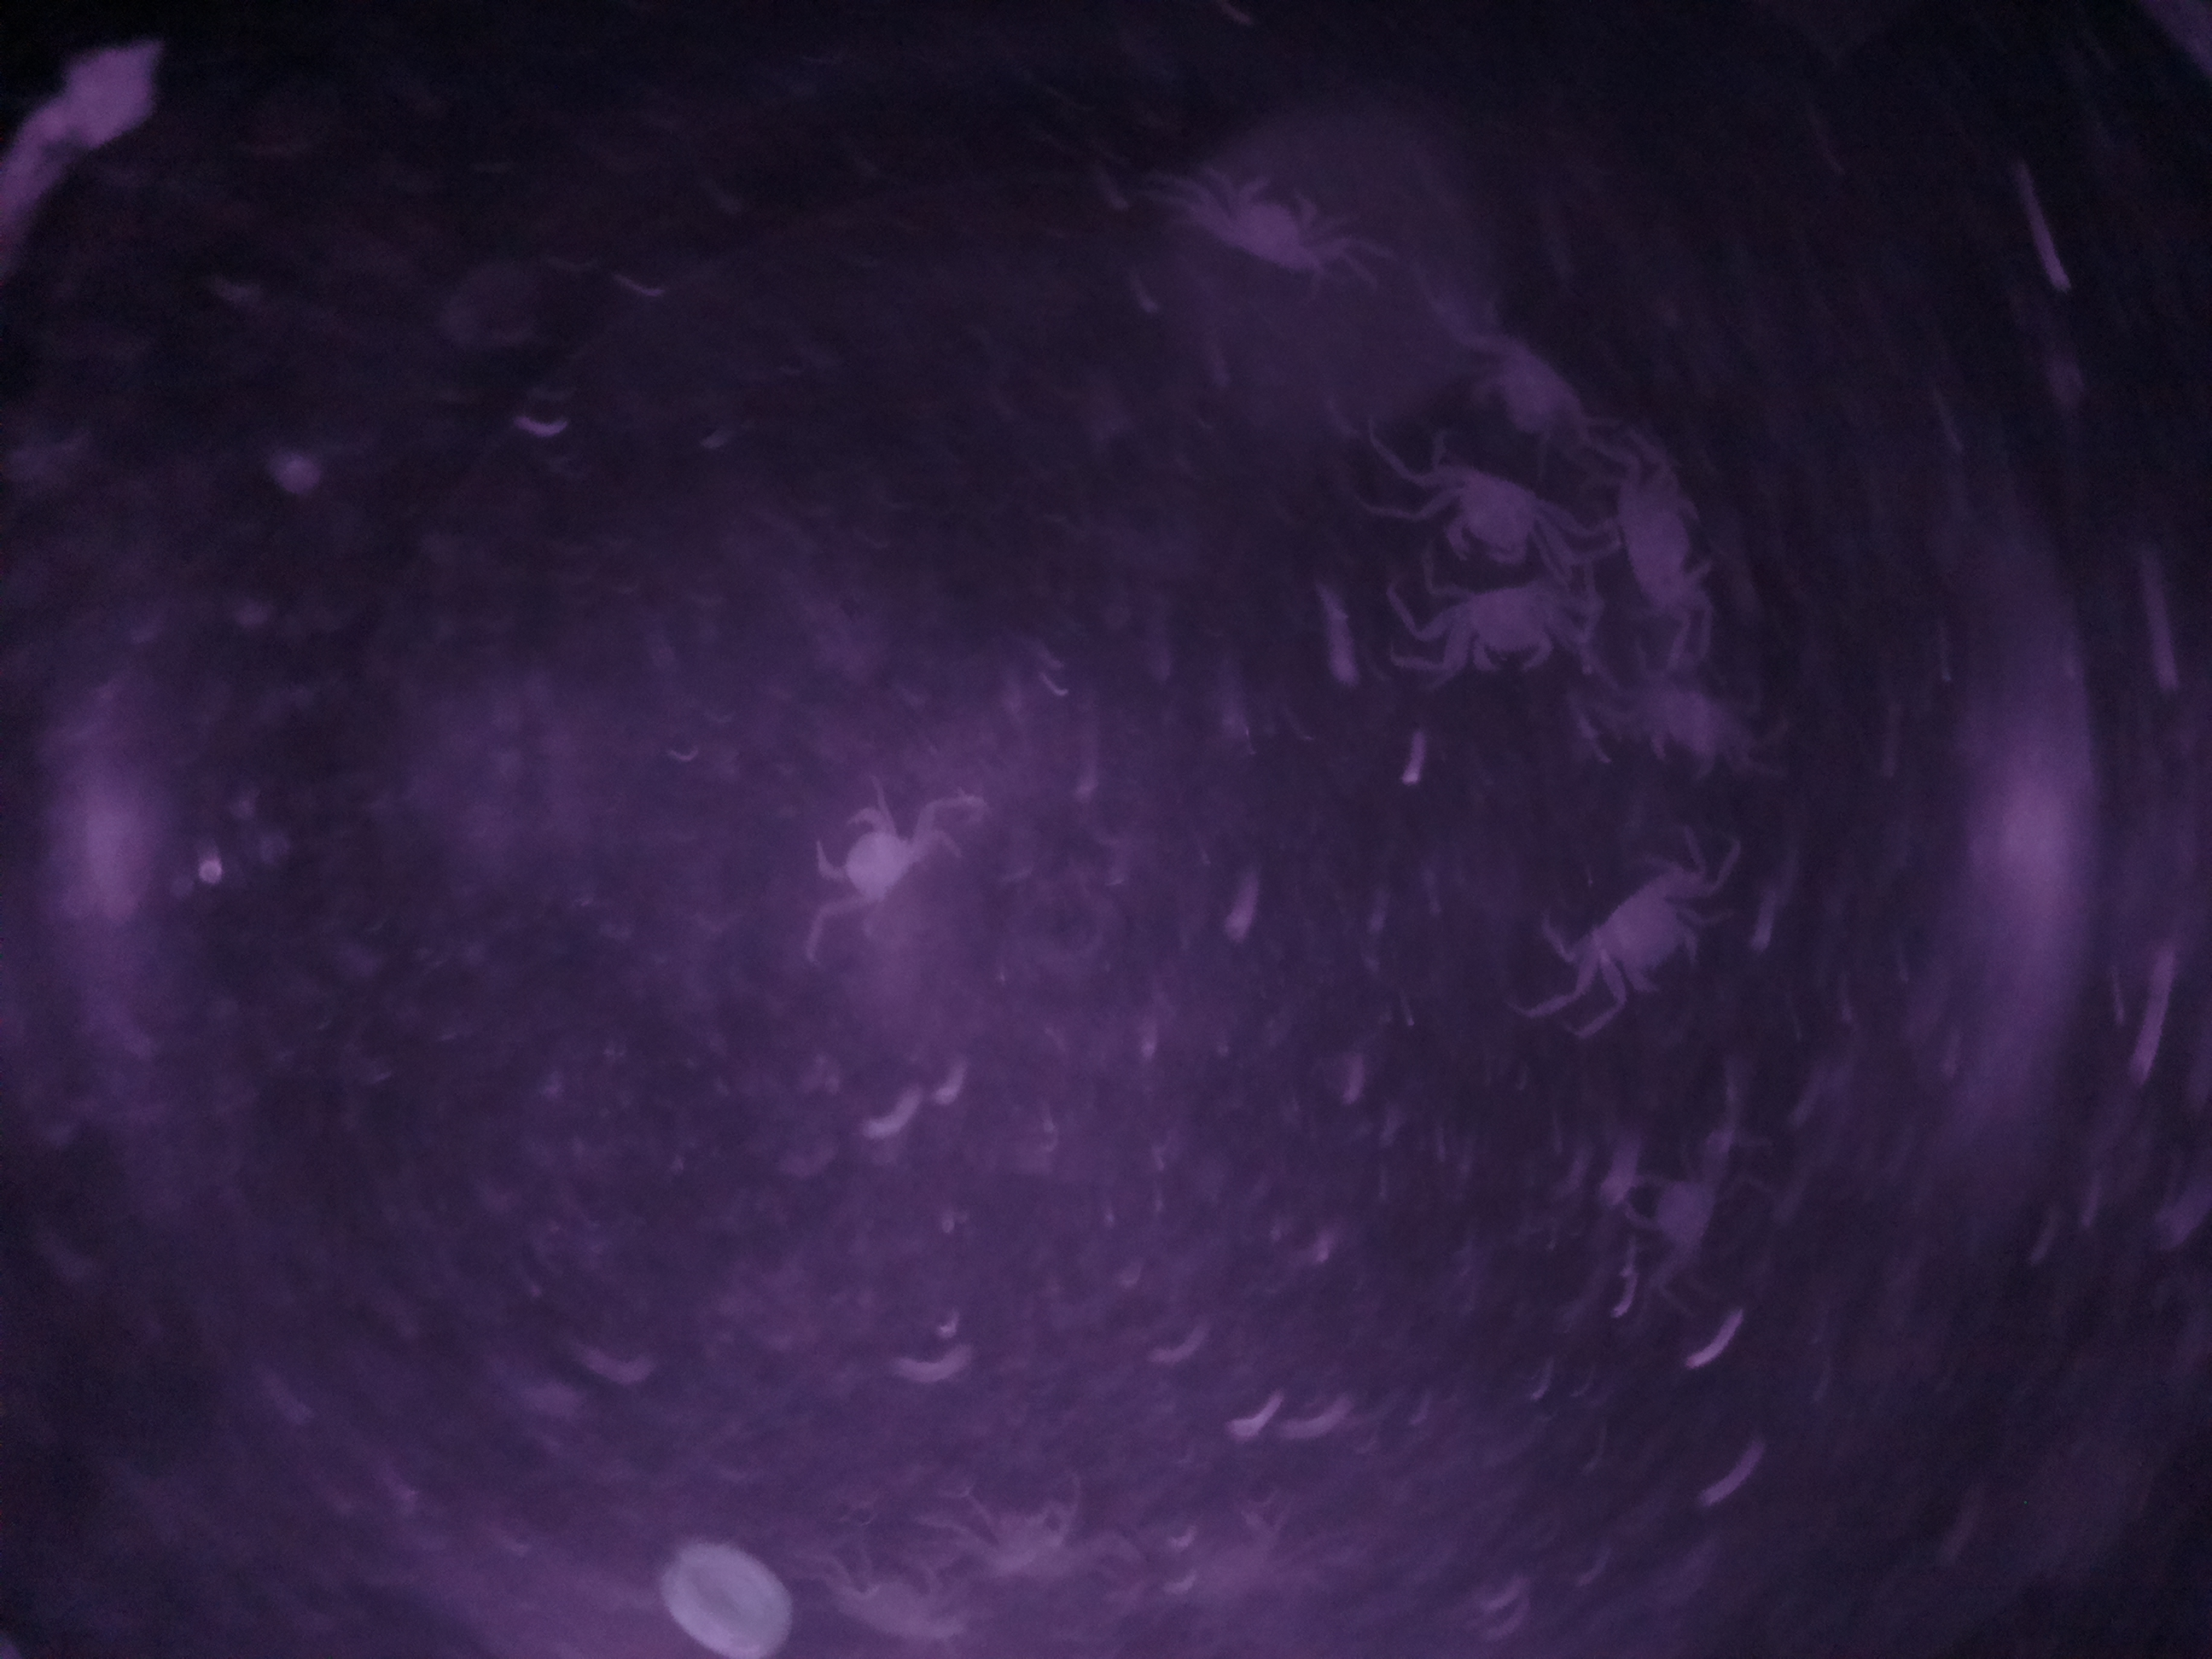Crab: (1534, 842, 1726, 1033), (1414, 558, 1606, 692)
